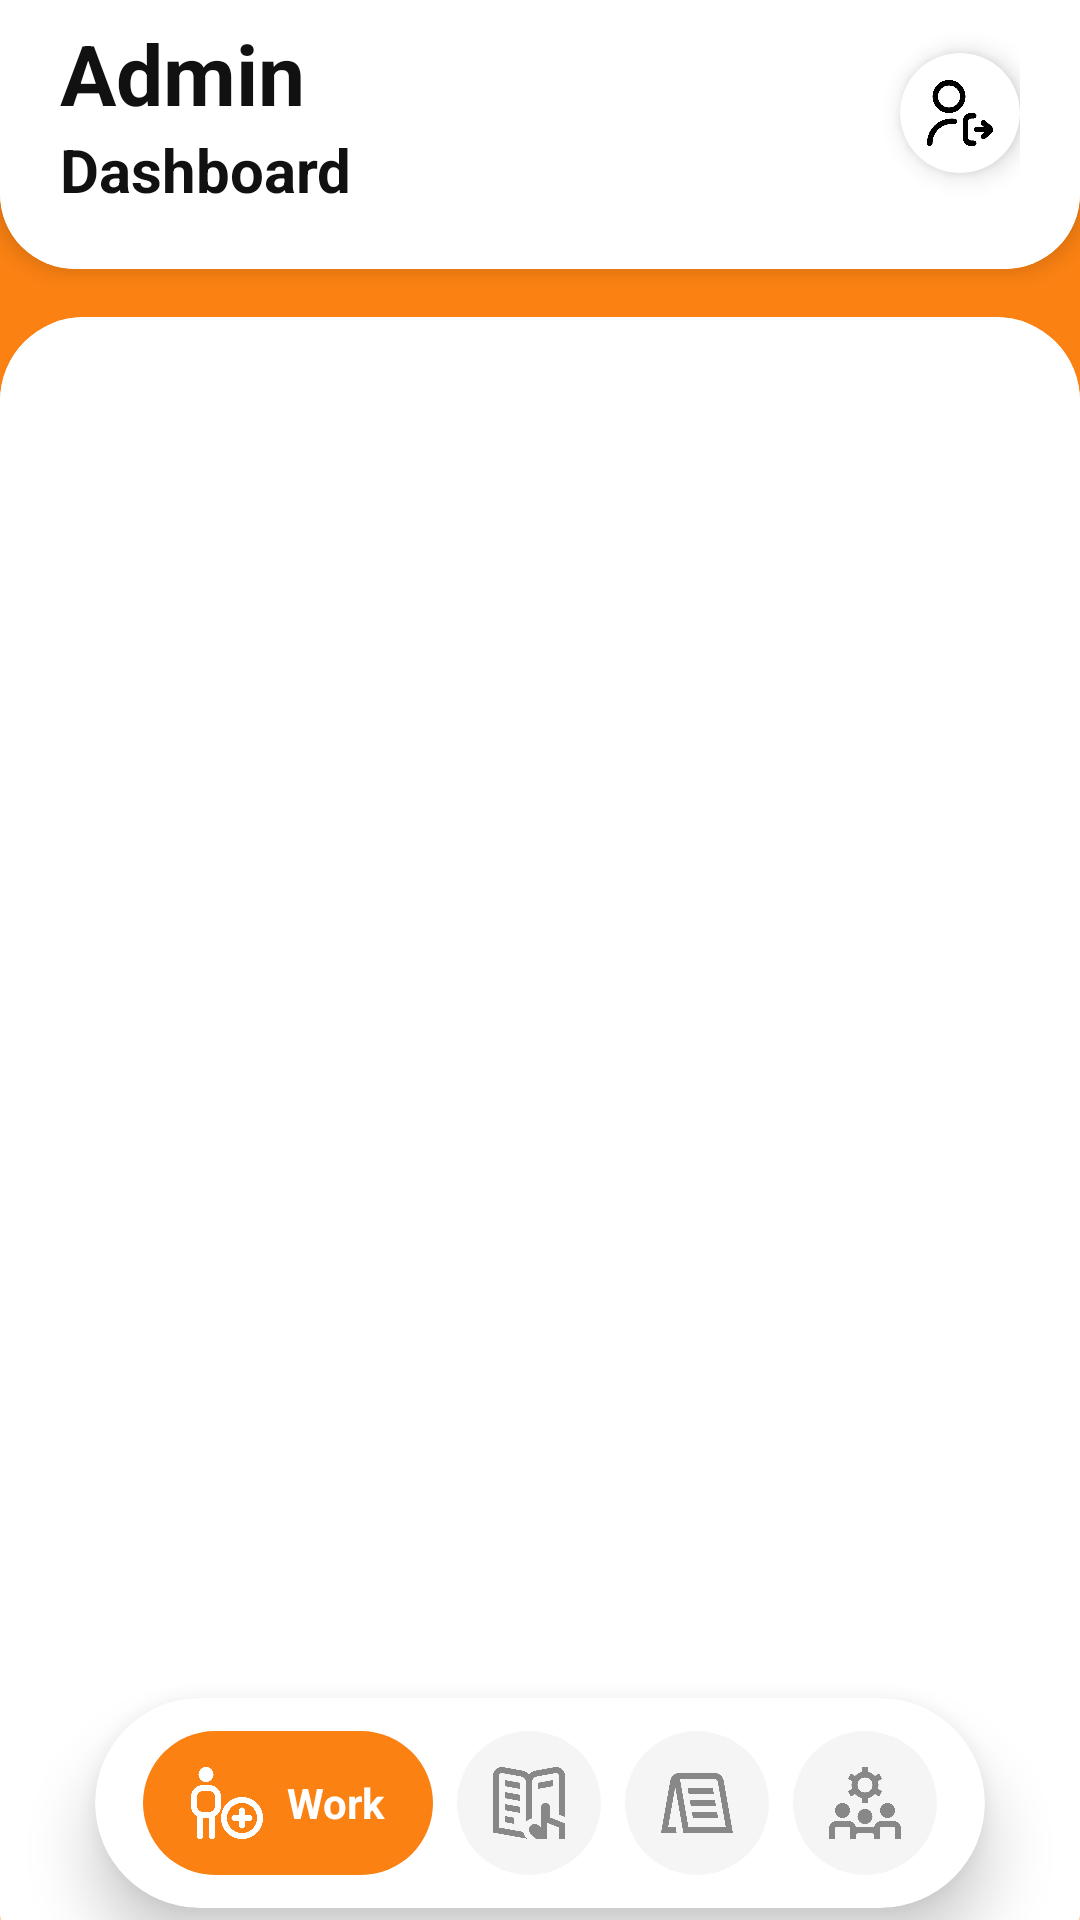

Icons on this 1080w x 1920h Android screen, each with its box as bbox=[x1, y1, x2, y2]:
Member: bbox=[829, 1767, 901, 1839]
Menu: bbox=[493, 1767, 565, 1839]
Register: bbox=[191, 1767, 263, 1839]
